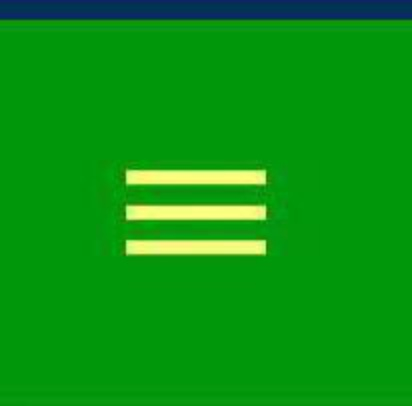ImgButton: (1, 1, 411, 405)
